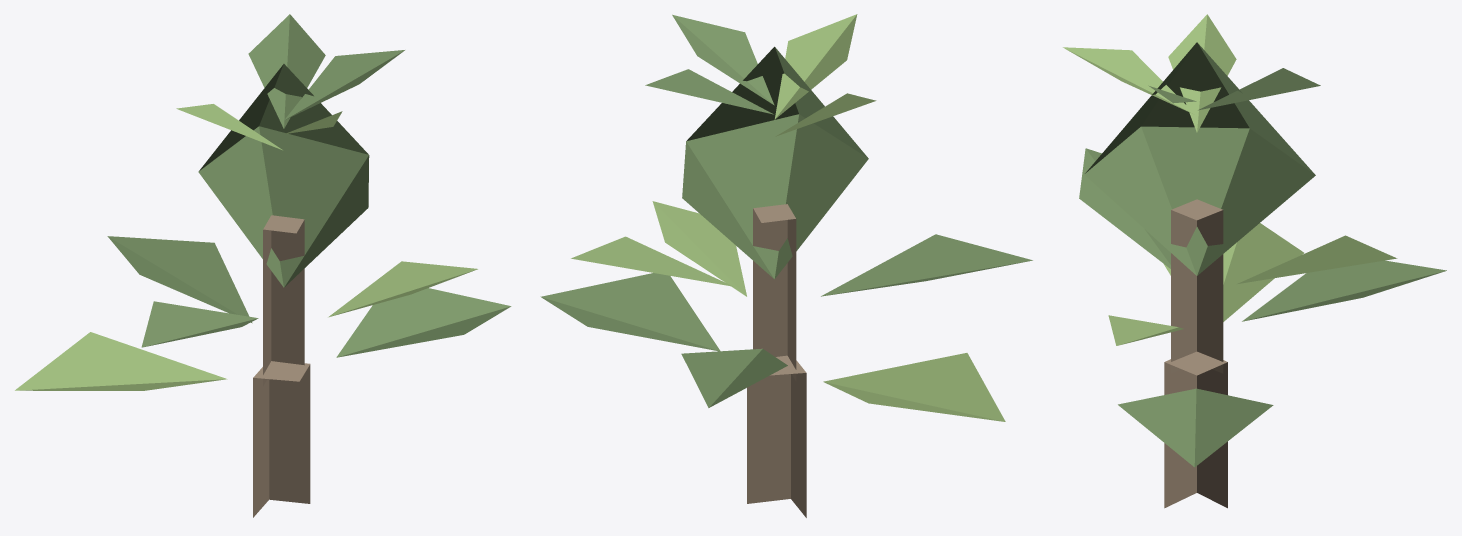
Rendered from shui.luweicong@seedling__spring.glb.
3 views of the same model, side by side, from view 1: azimuth 30°, elevation 25°; view 2: azimuth 150°, elevation 25°; view 3: azimuth 270°, elevation 25° (orthographic). The views are drawn at different scales.
Parts seen in each view (by area): view 1: shui.luweicong@seedling__spring; view 2: shui.luweicong@seedling__spring; view 3: shui.luweicong@seedling__spring.
Part boxes in pixels (box(x1,y1,x2,y2)): shui.luweicong@seedling__spring: box(15, 14, 511, 517); shui.luweicong@seedling__spring: box(540, 14, 1032, 517); shui.luweicong@seedling__spring: box(1063, 14, 1446, 508).
Size of the model in its own units: 0.3086 by 0.2789 by 0.2088.
